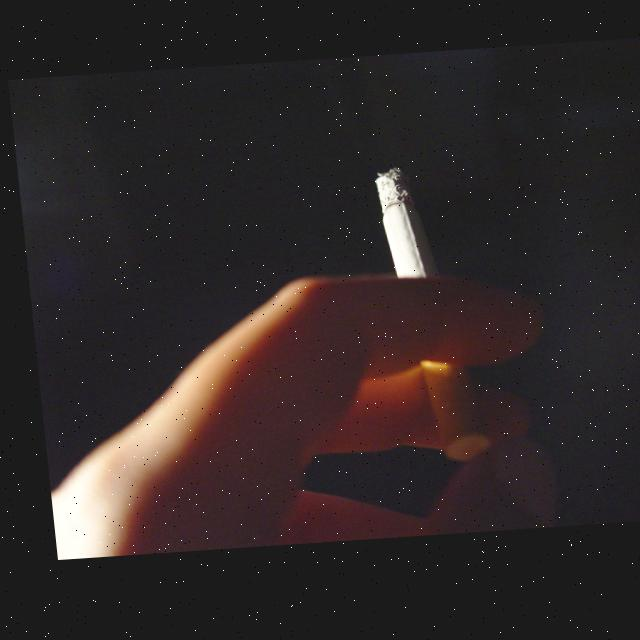cigarette: (367, 168, 485, 473)
